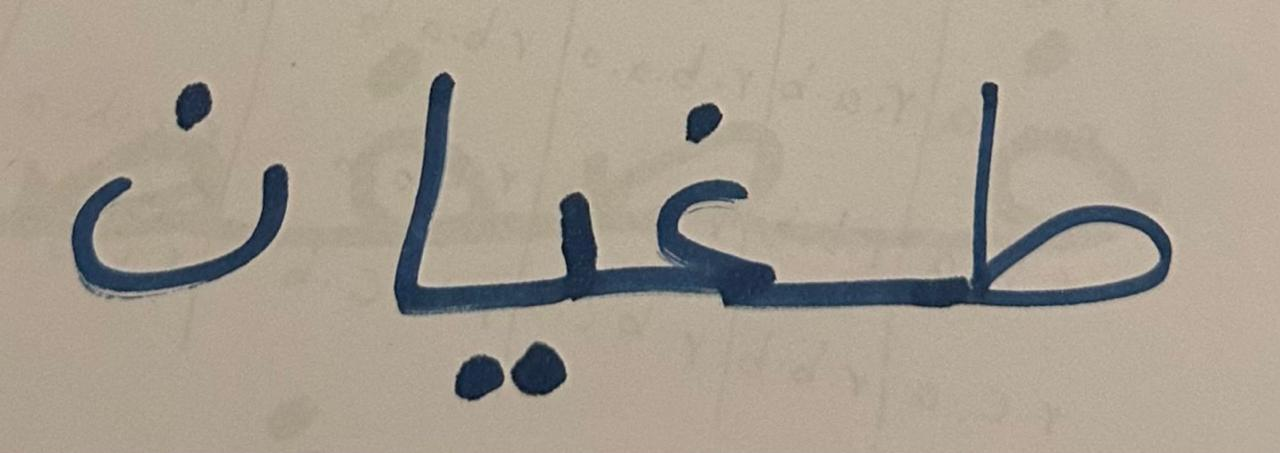alef: (336, 30, 460, 345)
ghain: (610, 13, 836, 377)
qaf: (43, 35, 332, 377)
teh: (843, 16, 1222, 377)
zah: (463, 100, 605, 423)
